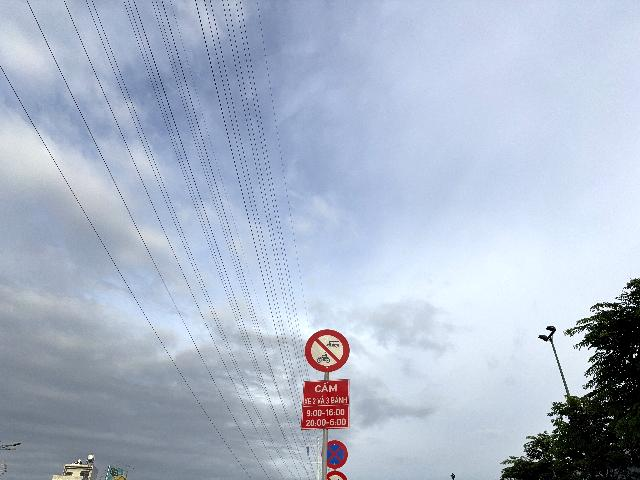cam-dung-va-do-xe: (327, 440, 348, 469)
cam-xe-2-banh-3-banh: (304, 328, 350, 372)
